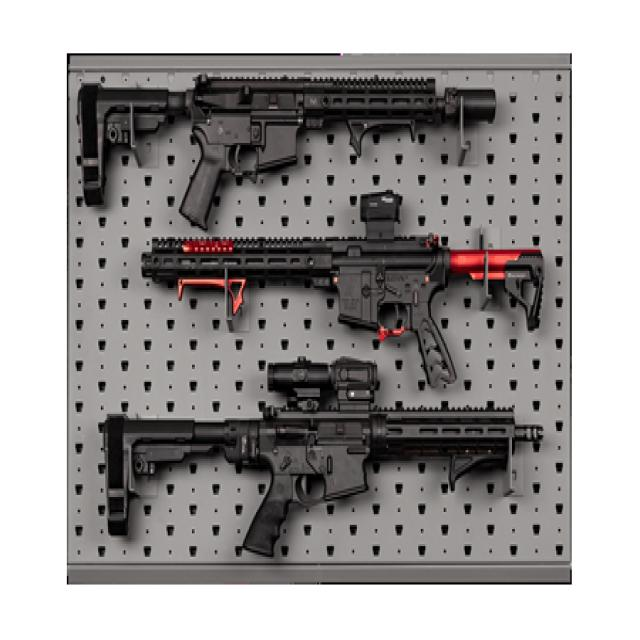Rifle: (101, 361, 515, 559), (142, 192, 545, 390), (77, 73, 498, 228)
